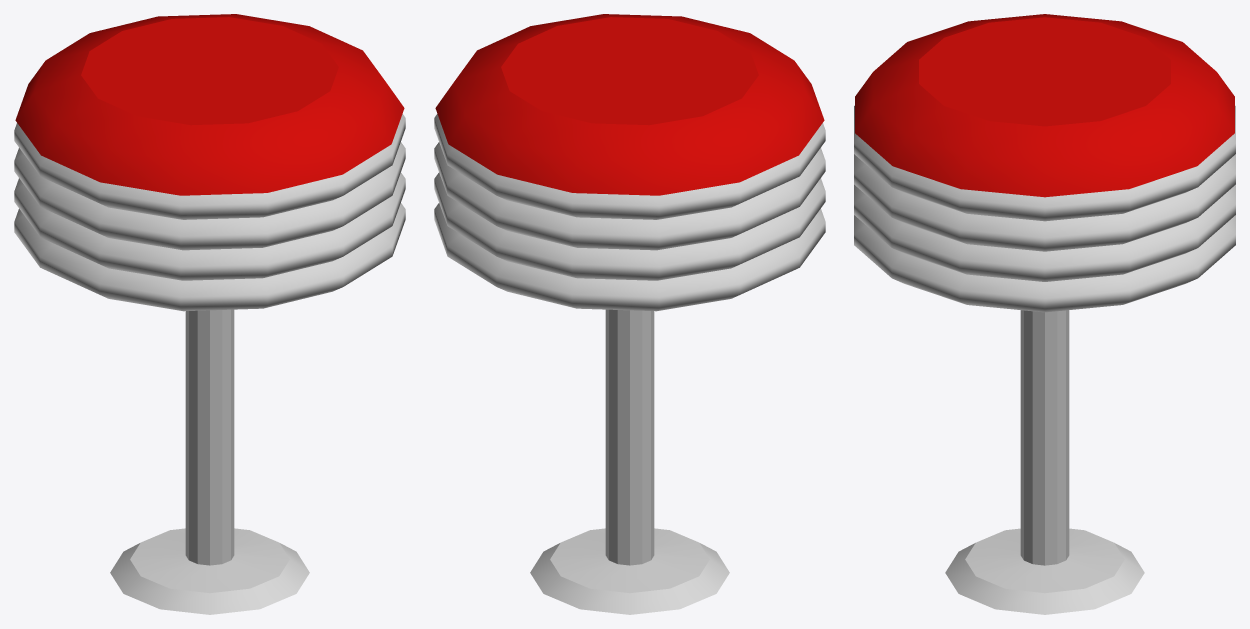
File: chair.glb
3 views of the same model, side by side, from view 1: azimuth 30°, elevation 25°; view 2: azimuth 150°, elevation 25°; view 3: azimuth 270°, elevation 25° (orthographic).
Visible parts, largest first — view 1: fbx_hamburger_chair; view 2: fbx_hamburger_chair; view 3: fbx_hamburger_chair.
Part boxes in pixels (x1,y1,x2,y2): fbx_hamburger_chair: (14,14,405,614); fbx_hamburger_chair: (434,14,825,614); fbx_hamburger_chair: (854,14,1235,614).
Size of the model in its own units: 1.14 by 1.6 by 1.11.
Materials: 1 (1 with a texture image).
